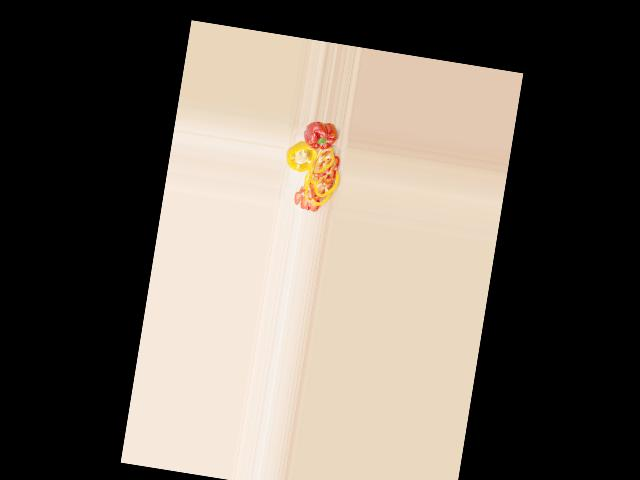bell_pepper: (282, 140, 318, 175)
